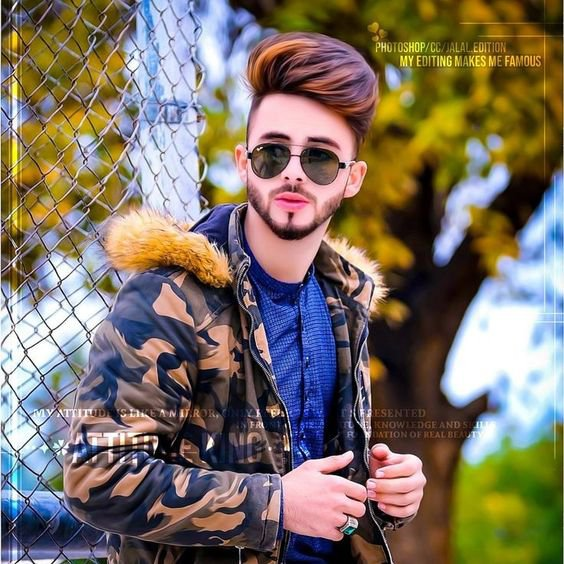noMask: (224, 28, 383, 245)
